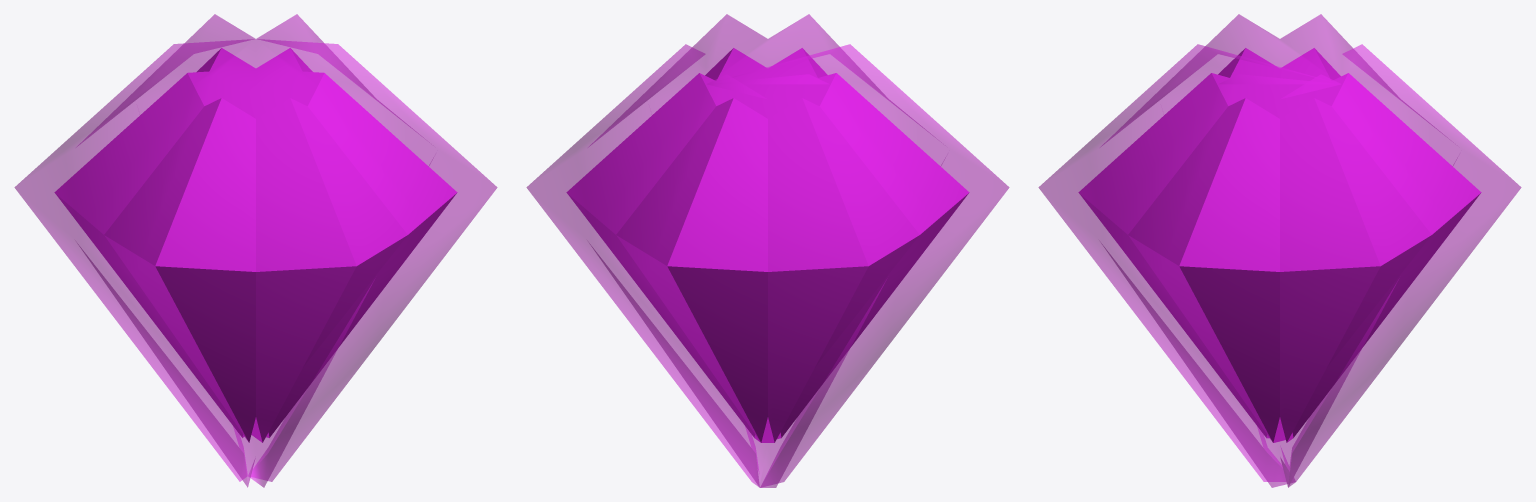
Rendered from 02-ruby.fbx.
3 renders of one model, left to right at view 1: azimuth 30°, elevation 25°; view 2: azimuth 150°, elevation 25°; view 3: azimuth 270°, elevation 25°, orthographic.
Parts seen in each view (by area): view 1: Cylinder, Cylinder.001; view 2: Cylinder, Cylinder.001; view 3: Cylinder, Cylinder.001.
Part boxes in pixels (x1,y1,x2,y2): Cylinder: [14, 14, 497, 487]; Cylinder.001: [54, 48, 457, 442]; Cylinder: [526, 14, 1009, 487]; Cylinder.001: [566, 48, 969, 442]; Cylinder: [1038, 14, 1521, 487]; Cylinder.001: [1078, 48, 1481, 442].
Bounding box in the file's own units: 79.71 × 91.56 × 91.56.
